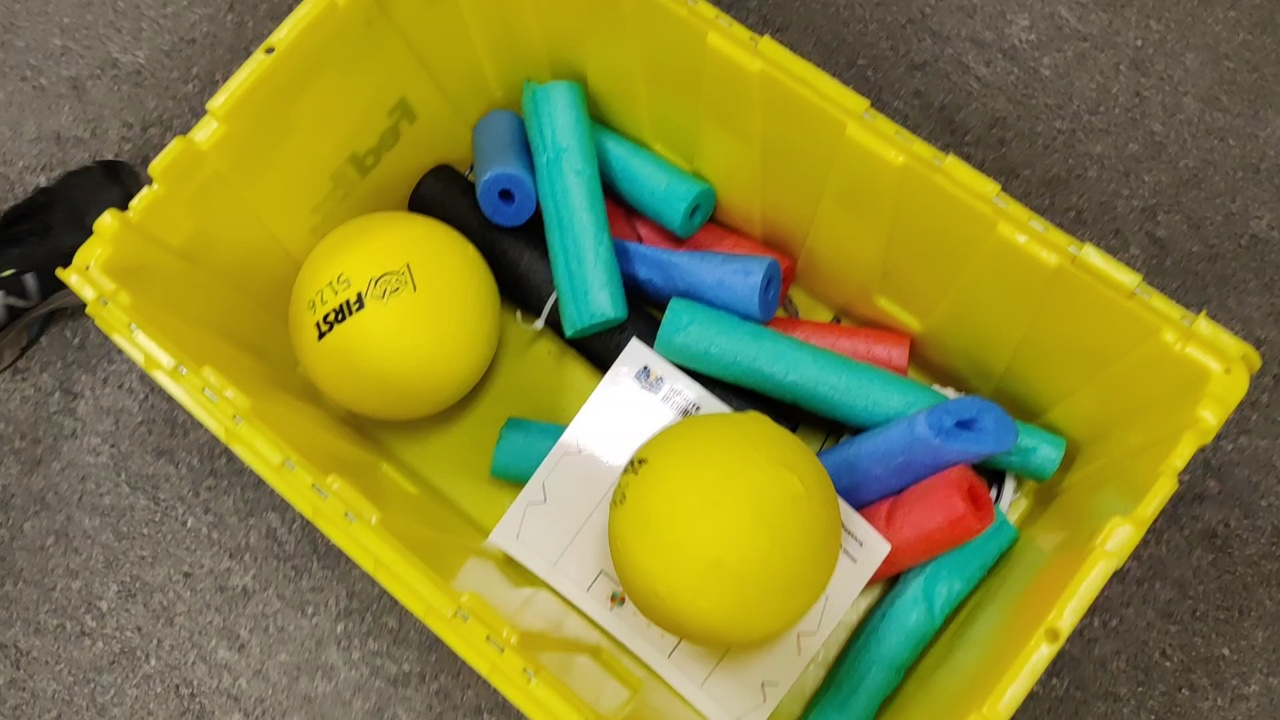Ball: (615, 411, 840, 646), (284, 209, 499, 426)
